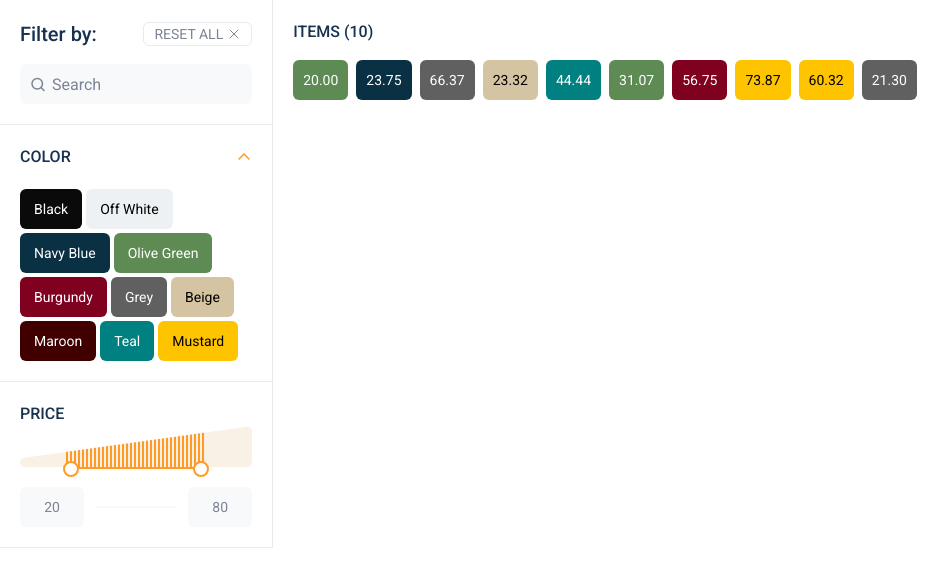
it: <FilterPage /> › Should filter items by colors filter
Step 1. Click the button "Teal" → (127, 341), box [100,321,154,361]
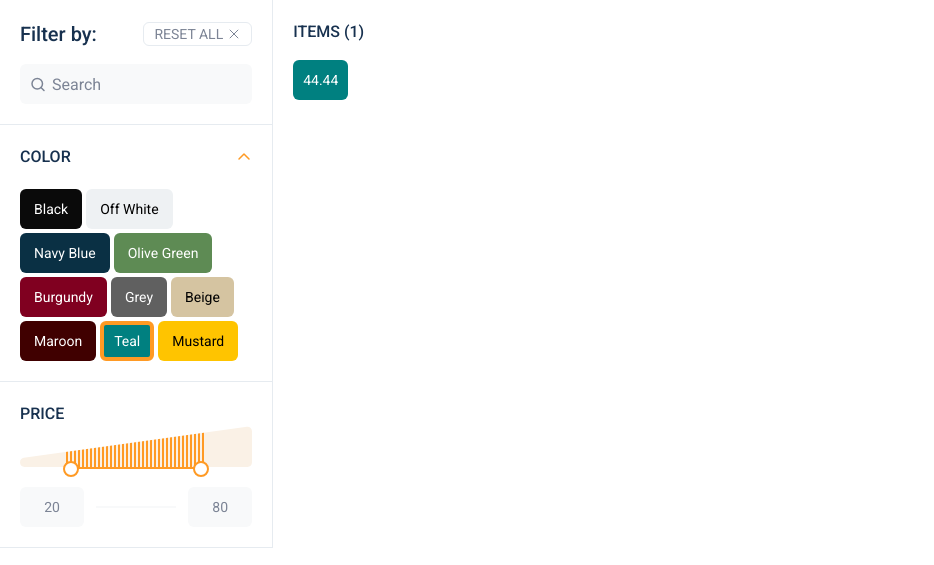
Expected: the text "ITEMS (1)" is shown, [293,22,364,41]
Step 2. Click the button "Teal" → (127, 341), box [100,321,154,361]
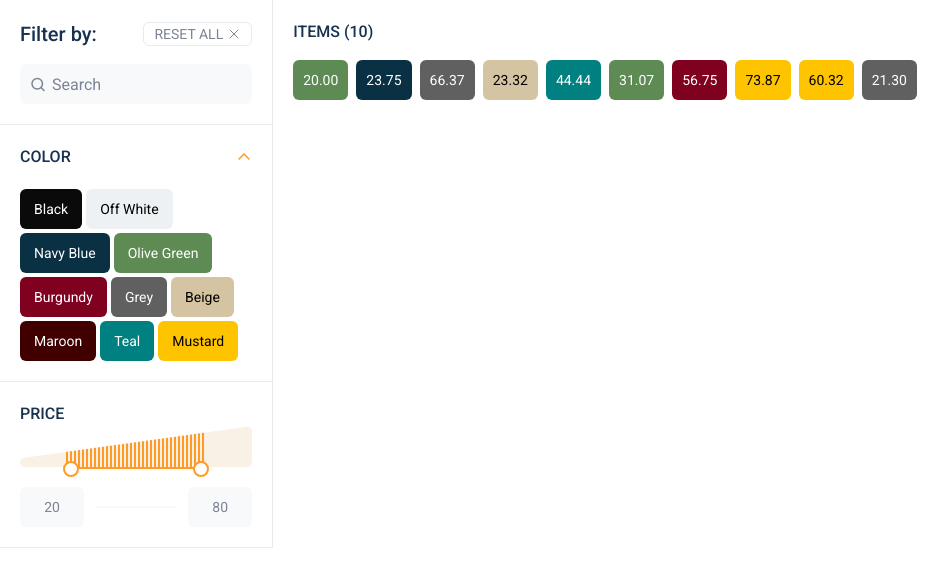
Expected: the text "ITEMS (10)" is shown, [293,22,373,41]
